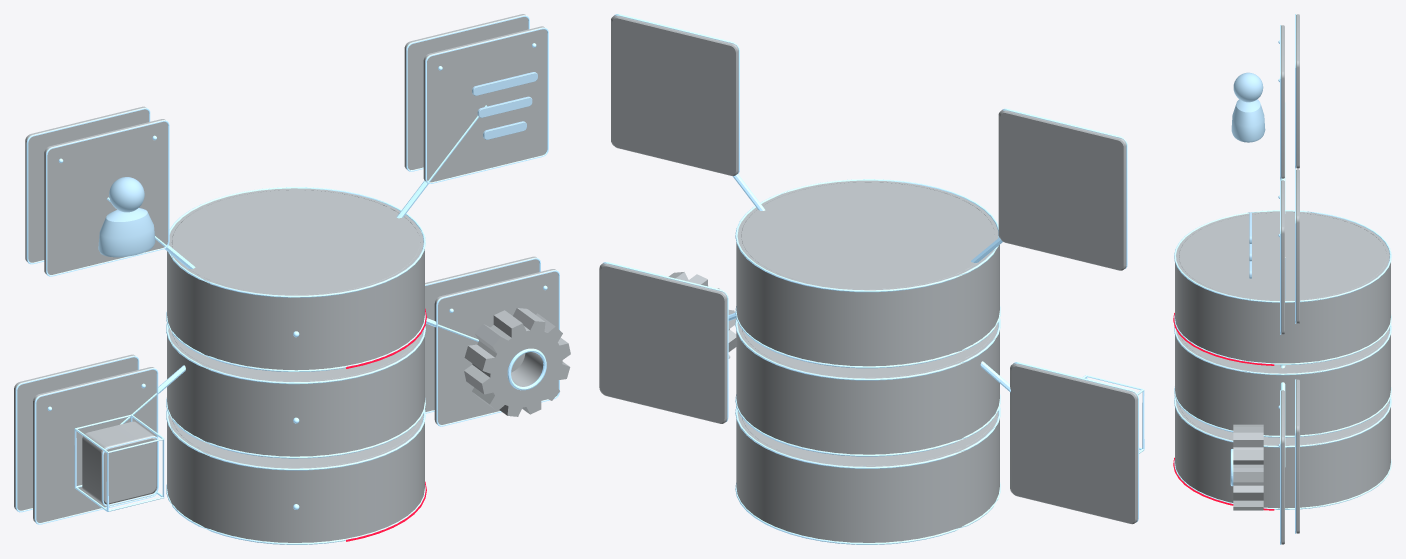
The model's file is 29-master-data.glb.
The picture shows the model from 3 angles, left to right: view 1: azimuth 30°, elevation 25°; view 2: azimuth 150°, elevation 25°; view 3: azimuth 270°, elevation 25°; orthographic projection. The views are drawn at different scales.
Parts seen in each view (by area): view 1: BC thin clear technical glass, BC cool glass edge, BC etched pale glass; view 2: BC thin clear technical glass, BC cool glass edge; view 3: BC thin clear technical glass, BC cool glass edge, BC etched pale glass, BC ruby signal edge.
Part boxes in pixels (<box>): BC thin clear technical glass: <box>14,14,570,542</box>; BC cool glass edge: <box>15,15,559,544</box>; BC etched pale glass: <box>98,72,537,257</box>; BC thin clear technical glass: <box>599,15,1137,542</box>; BC cool glass edge: <box>603,14,1144,544</box>; BC thin clear technical glass: <box>1175,14,1390,544</box>; BC cool glass edge: <box>1174,14,1391,544</box>; BC etched pale glass: <box>1231,72,1265,278</box>; BC ruby signal edge: <box>1173,313,1274,510</box>.
Size of the model in its own units: 2.4 by 1.77 by 1.01.
